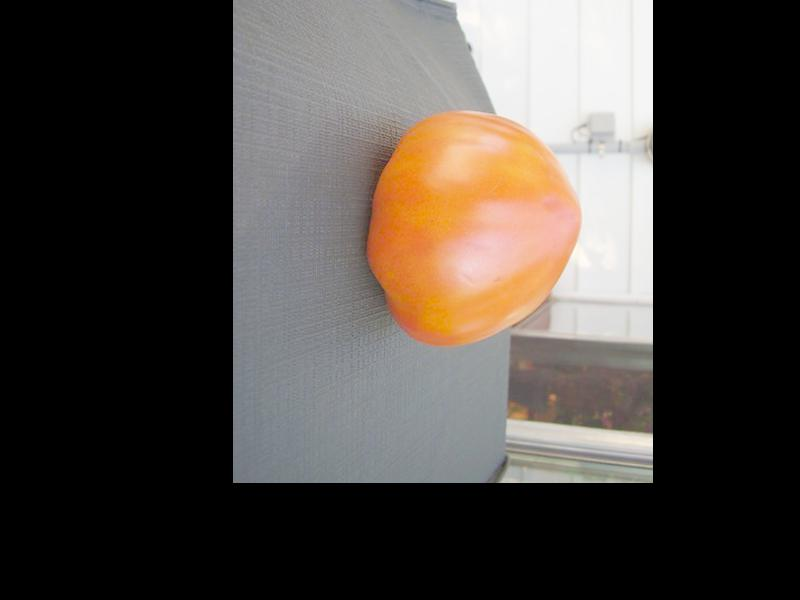Tomato: (369, 110, 583, 347)
